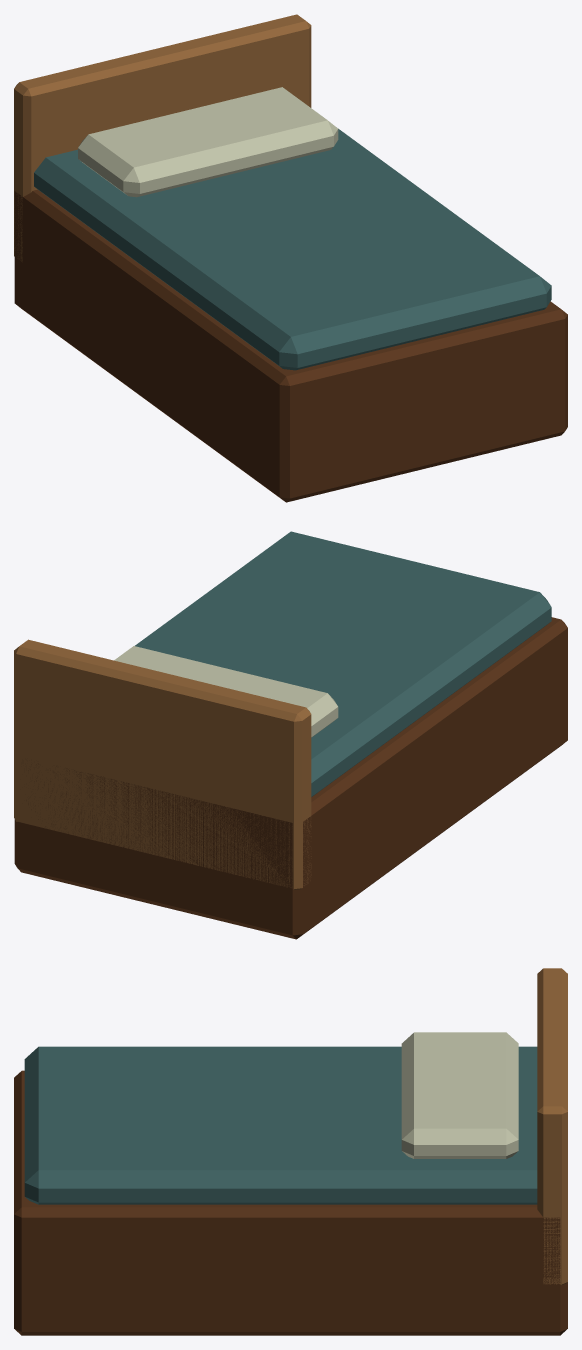
Rendered from bed.glb.
3 views of the same model, one above another, from view 1: azimuth 30°, elevation 25°; view 2: azimuth 150°, elevation 25°; view 3: azimuth 270°, elevation 25° (orthographic).
Visible parts, largest first — view 1: DD_Bed_Frame, DD_Bed_Mattress, DD_Bed_Headboard, DD_Bed_Pillow; view 2: DD_Bed_Frame, DD_Bed_Headboard, DD_Bed_Mattress, DD_Bed_Pillow; view 3: DD_Bed_Frame, DD_Bed_Mattress, DD_Bed_Pillow, DD_Bed_Headboard.
Part boxes in pixels (bbox=[...]): DD_Bed_Frame: bbox=[14, 189, 567, 502]; DD_Bed_Mattress: bbox=[34, 128, 551, 370]; DD_Bed_Headboard: bbox=[14, 14, 311, 262]; DD_Bed_Pillow: bbox=[78, 87, 338, 197]; DD_Bed_Frame: bbox=[14, 617, 567, 939]; DD_Bed_Headboard: bbox=[14, 639, 311, 889]; DD_Bed_Mattress: bbox=[135, 531, 551, 796]; DD_Bed_Pillow: bbox=[114, 646, 338, 737]; DD_Bed_Frame: bbox=[14, 1070, 567, 1335]; DD_Bed_Mattress: bbox=[24, 1046, 537, 1204]; DD_Bed_Pillow: bbox=[401, 1032, 518, 1158]; DD_Bed_Headboard: bbox=[537, 968, 567, 1284].
Size of the model in its own units: 1.1 by 0.825 by 1.8.
